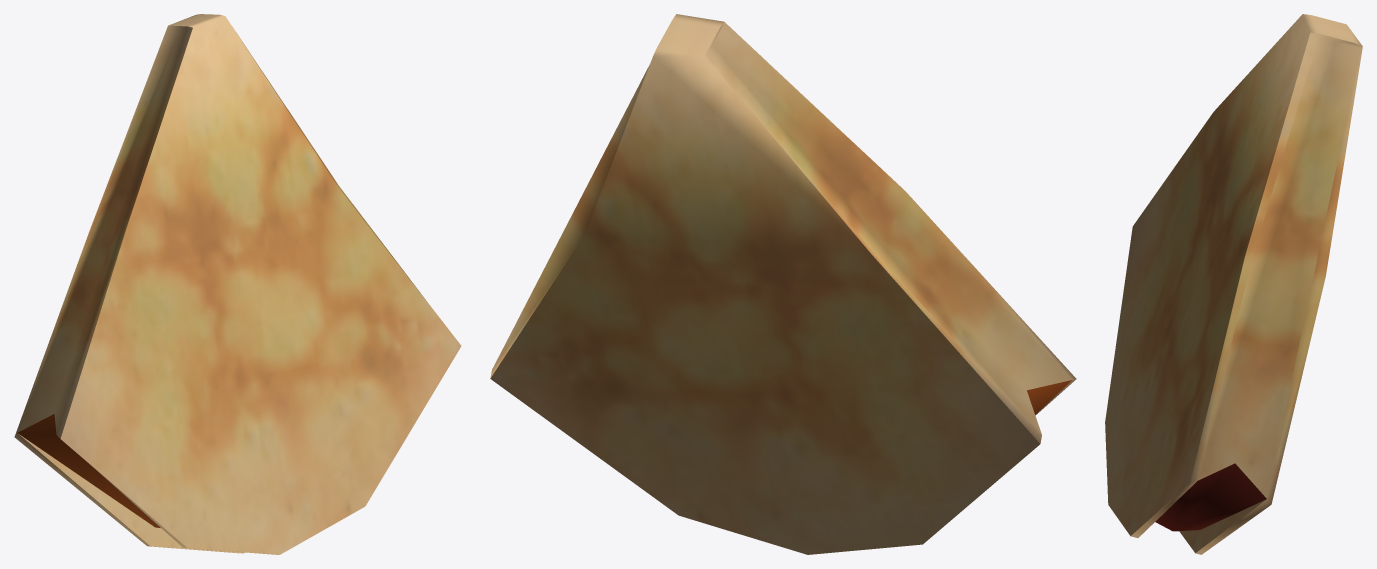
File: H_Crepe_Sapph.fbx
The picture shows the model from 3 angles, left to right: view 1: azimuth 30°, elevation 25°; view 2: azimuth 150°, elevation 25°; view 3: azimuth 270°, elevation 25°; orthographic projection. The views are drawn at different scales.
Parts seen in each view (by area): view 1: Taco; view 2: Taco; view 3: Taco.
Boxes of the visible parts, left/top/right/bottom form: Taco: left=14, top=14, right=461, bottom=554; Taco: left=490, top=14, right=1076, bottom=554; Taco: left=1105, top=14, right=1362, bottom=554.
Bounding box in the file's own units: 28.6 × 30.14 × 13.67.
